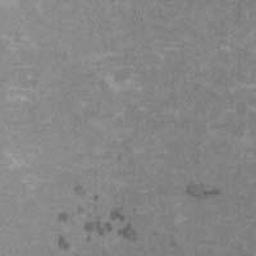Oil spot: (56, 204, 140, 244), (183, 179, 234, 205), (56, 232, 70, 252), (73, 183, 87, 196), (168, 233, 178, 248), (150, 224, 160, 237), (91, 192, 101, 202), (131, 206, 138, 214)
